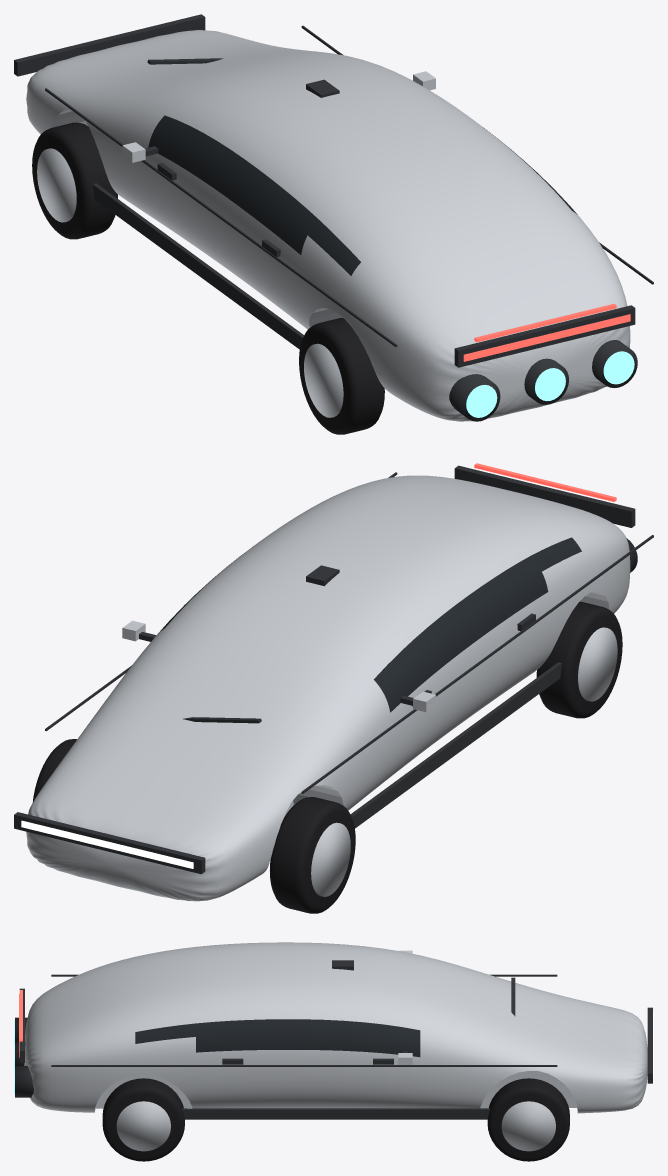
The model's file is car.glb.
The picture shows the model from 3 angles, top to bottom: view 1: azimuth 30°, elevation 25°; view 2: azimuth 150°, elevation 25°; view 3: azimuth 270°, elevation 25°; orthographic projection. The views are drawn at different scales.
Parts seen in each view (by area): view 1: Body, Tire.002, Tire, Sill, TailRecess, HeadRecess, Rim, Rim.002, WaistLine, TailBar, JetPod, JetPod.002 (+5 smaller); view 2: Body, Tire, Tire.002, Sill, TailRecess, HeadRecess, Rim, Rim.002, WaistLine, HeadBar, TailBar2, Tire.001; view 3: Body, Sill.001, Tire.003, Tire.001, Rim.003, Rim.001, WaistLine.001, JetPod.002, HeadRecess.
Part boxes in pixels (x1=…): Body: x1=26, y1=30, x2=630, y2=421; Tire.002: x1=299, y1=318, x2=384, y2=434; Tire: x1=32, y1=122, x2=117, y2=239; Sill: x1=92, y1=183, x2=304, y2=349; TailRecess: x1=454, y1=305, x2=635, y2=367; HeadRecess: x1=14, y1=14, x2=205, y2=76; Rim: x1=37, y1=148, x2=76, y2=222; Rim.002: x1=304, y1=343, x2=343, y2=417; WaistLine: x1=45, y1=88, x2=397, y2=346; TailBar: x1=463, y1=314, x2=630, y2=361; JetPod: x1=449, y1=374, x2=500, y2=421; JetPod.002: x1=592, y1=340, x2=637, y2=387; Body: x1=26, y1=475, x2=630, y2=901; Tire: x1=270, y1=797, x2=355, y2=913; Tire.002: x1=536, y1=601, x2=622, y2=718; Sill: x1=350, y1=662, x2=562, y2=828; TailRecess: x1=454, y1=465, x2=635, y2=527; HeadRecess: x1=14, y1=812, x2=205, y2=874; Rim: x1=311, y1=822, x2=350, y2=896; Rim.002: x1=578, y1=627, x2=617, y2=701; WaistLine: x1=301, y1=535, x2=653, y2=793; HeadBar: x1=21, y1=820, x2=193, y2=868; TailBar2: x1=474, y1=463, x2=616, y2=501; Tire.001: x1=32, y1=739, x2=76, y2=802; Body: x1=24, y1=942, x2=647, y2=1113; Sill.001: x1=182, y1=1108, x2=490, y2=1119; Tire.003: x1=102, y1=1078, x2=184, y2=1161; Tire.001: x1=487, y1=1078, x2=569, y2=1161; Rim.003: x1=116, y1=1101, x2=170, y2=1151; Rim.001: x1=501, y1=1101, x2=555, y2=1151; WaistLine.001: x1=51, y1=1065, x2=557, y2=1066; JetPod.002: x1=15, y1=1066, x2=33, y2=1097; HeadRecess: x1=647, y1=1007, x2=652, y2=1083.
Size of the model in its own units: 2.3 by 1.52 by 5.82.
